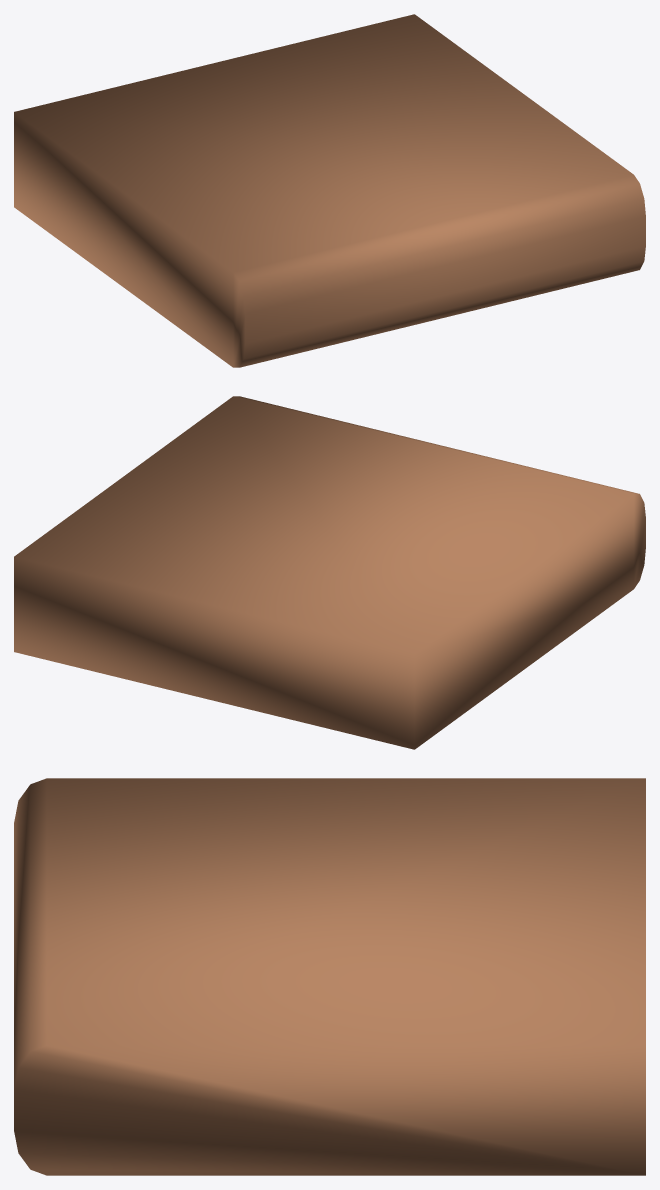
Rendered from Handtuch01.fbx.
The picture shows the model from 3 angles, top to bottom: view 1: azimuth 30°, elevation 25°; view 2: azimuth 150°, elevation 25°; view 3: azimuth 270°, elevation 25°; orthographic projection. The views are drawn at different scales.
Visible parts, largest first — view 1: Cube; view 2: Cube; view 3: Cube.
Part boxes in pixels (x1=…): Cube: x1=14, y1=14, x2=645, y2=367; Cube: x1=14, y1=396, x2=645, y2=749; Cube: x1=14, y1=778, x2=645, y2=1175.
Size of the model in its own units: 76.76 by 17.45 by 76.76.
